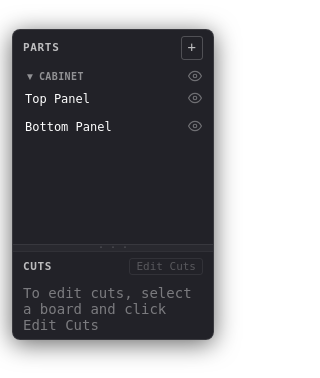
Collapsible assembly groups › re-expands and shows part rows after clicking the chevron again
Click the button named "Collapse" at point(30, 77), box x1=25 y1=72 x2=35 y2=82
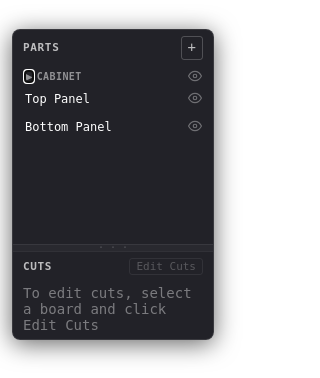
Click the button named "Expand" at point(29, 77), box x1=25 y1=72 x2=33 y2=82
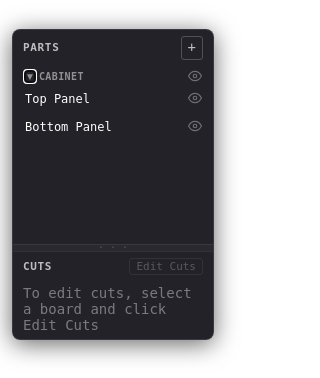
Check: the list item "Top Panel" is shown, box x1=25 y1=91 x2=203 y2=107
Check: the button named "Collapse" reads "▼", box x1=25 y1=72 x2=35 y2=82
